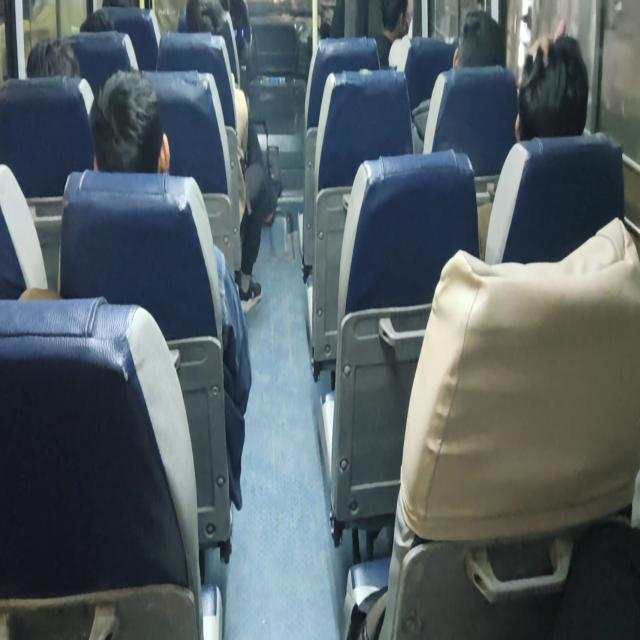person: (94, 75, 184, 164), (520, 71, 600, 150), (18, 43, 77, 92), (452, 22, 510, 63), (79, 0, 126, 44), (176, 0, 229, 36), (388, 0, 422, 38)
